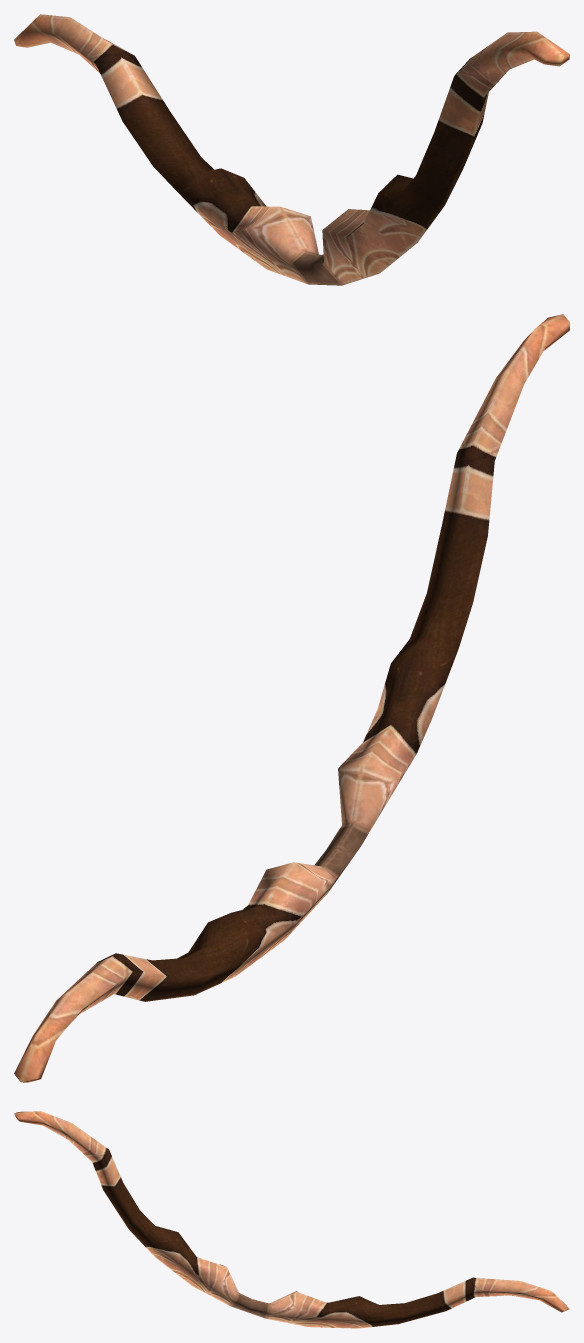
Rendered from rangedweapon-bronzeweapons.glb.
3 renders of one model, top to bottom at view 1: azimuth 30°, elevation 25°; view 2: azimuth 150°, elevation 25°; view 3: azimuth 270°, elevation 25°, orthographic. The views are drawn at different scales.
Size of the model in its own units: 0.0978 by 0.6732 by 1.55.
Materials: 1 (1 with a texture image).
